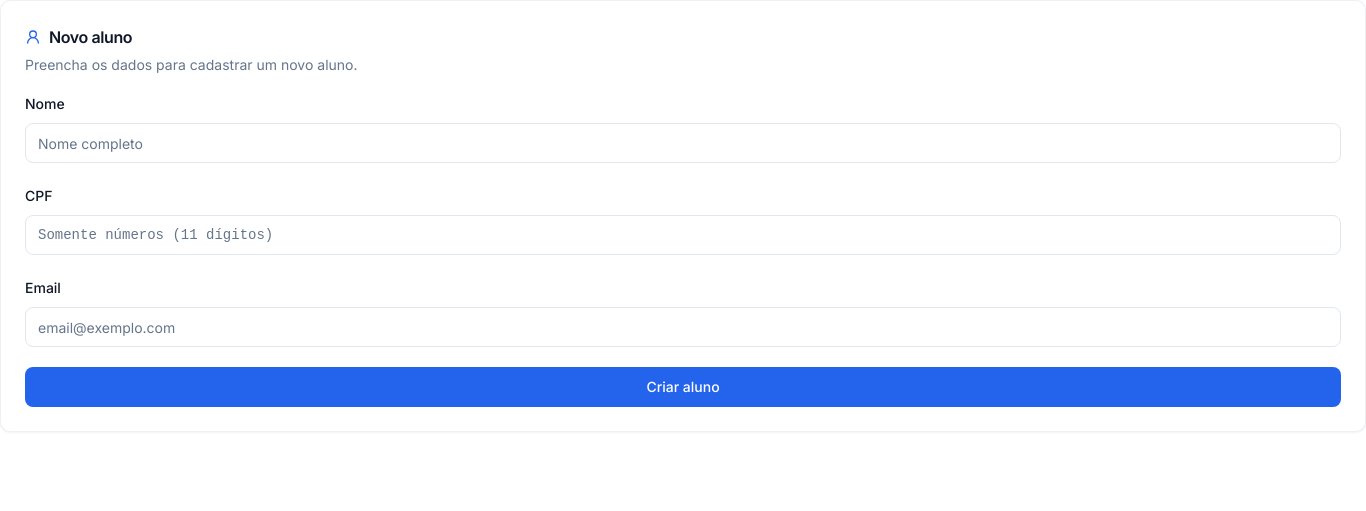
Test case: AlunoForm › shows server error message when createAluno returns failure
The image size is (1366, 511).
Type "Test" into the field labelled "Nome" at [683, 143], box top-left (25, 123), bottom-right (1341, 163)
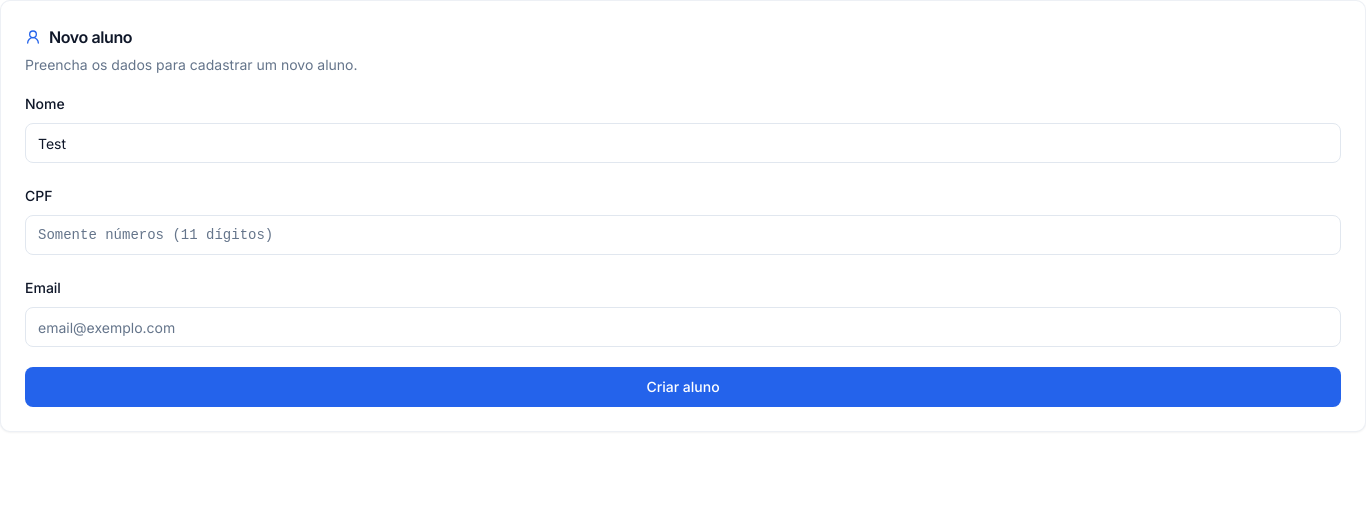
Type "12345678901" into the field labelled "CPF" at [683, 235], box top-left (25, 215), bottom-right (1341, 255)
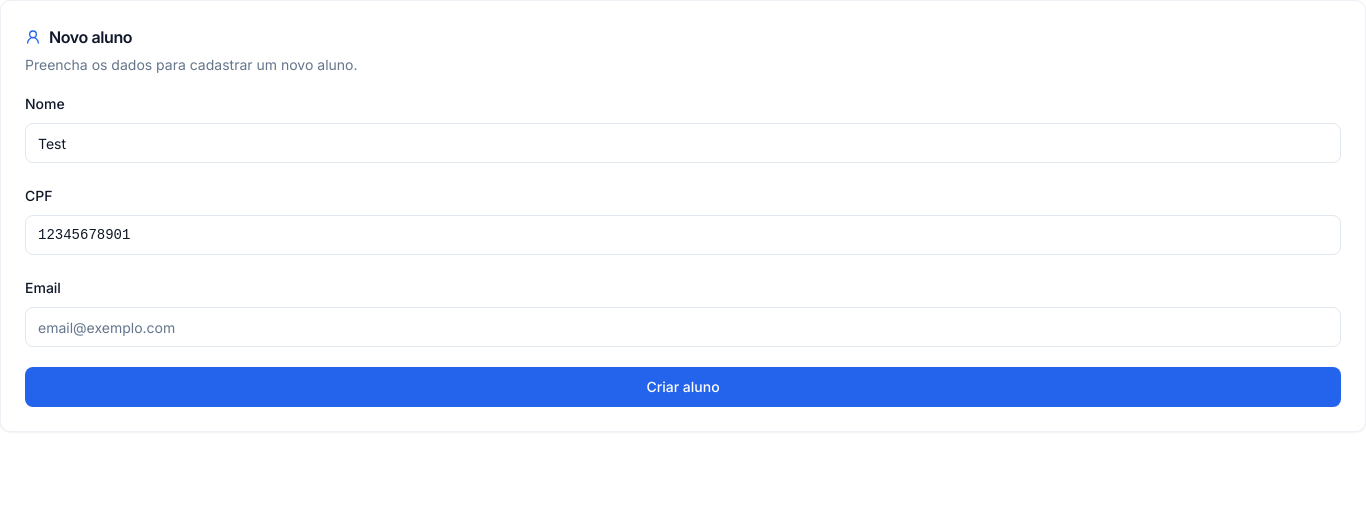
Type "t@test.com" into the field labelled "Email" at [683, 327], box top-left (25, 307), bottom-right (1341, 347)
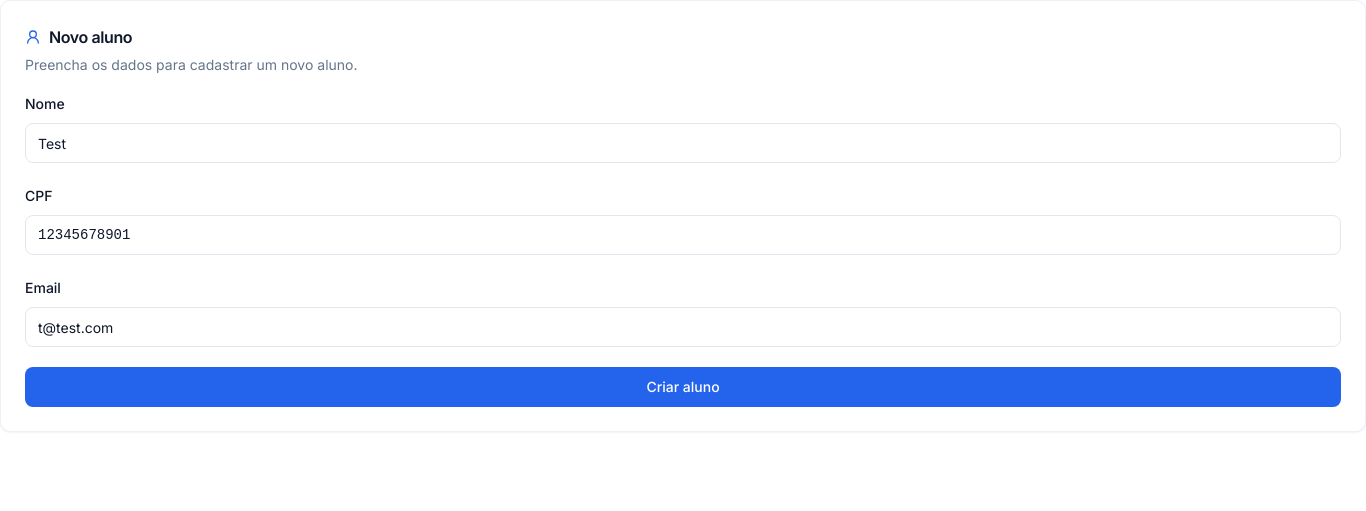
Click the button "Criar aluno" at [683, 387], box top-left (25, 367), bottom-right (1341, 407)
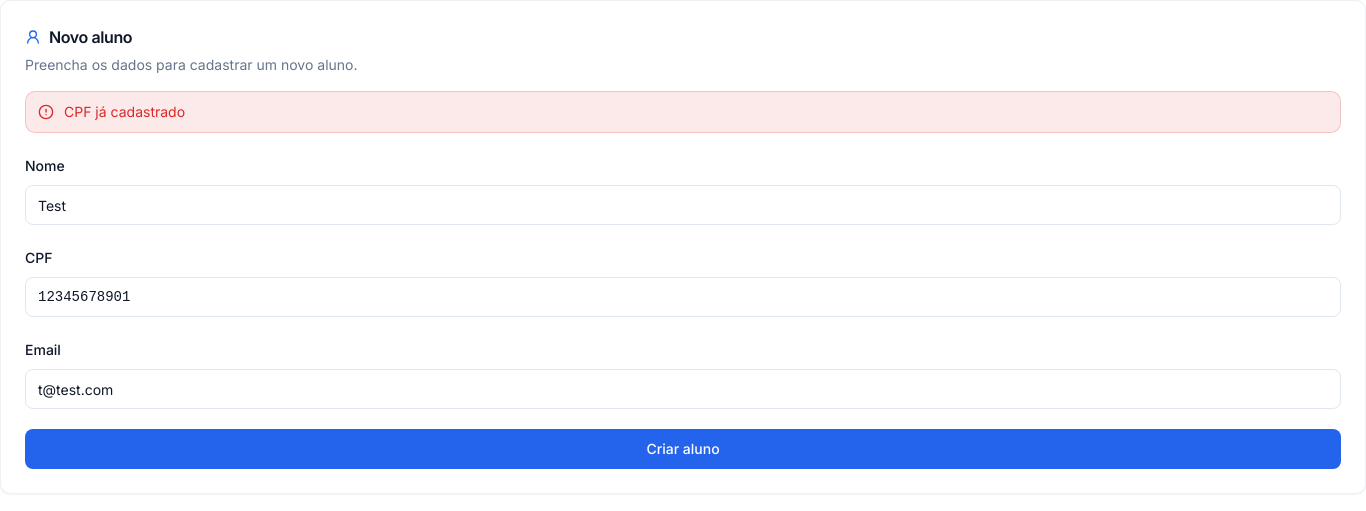
expect the text "CPF já cadastrado" is shown: met, box top-left (64, 102), bottom-right (185, 122)
